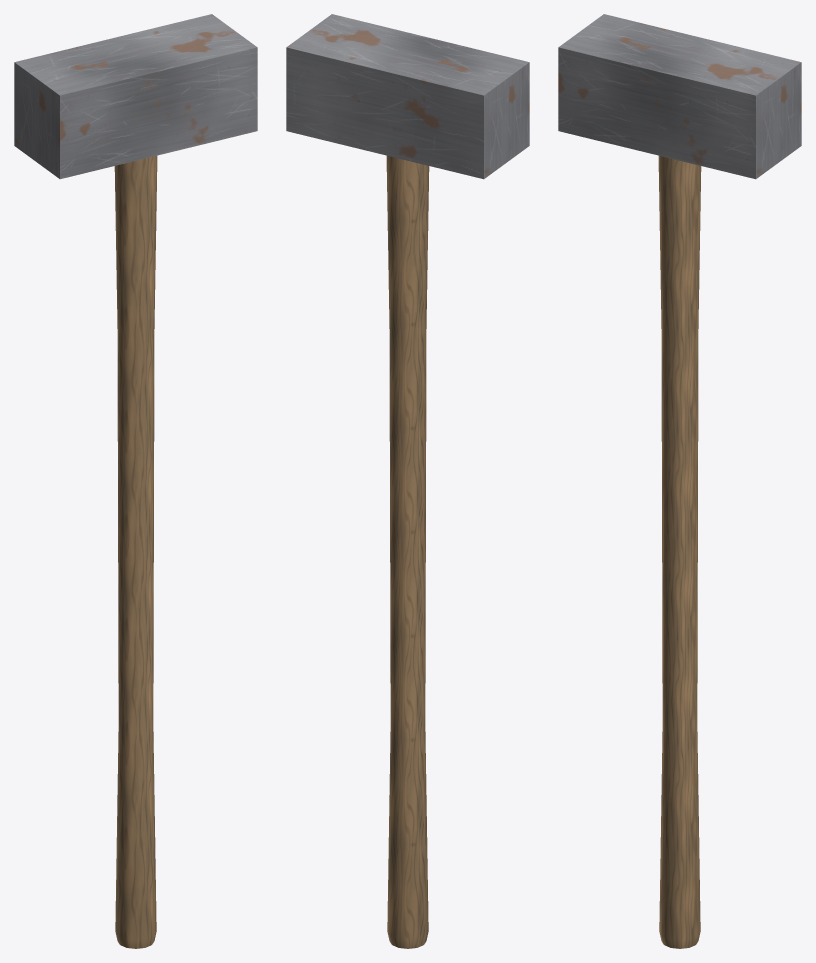
The model's file is sledgehammer.glb.
The picture shows the model from 3 angles, left to right: view 1: azimuth 30°, elevation 25°; view 2: azimuth 150°, elevation 25°; view 3: azimuth 330°, elevation 25°; orthographic projection.
Parts seen in each view (by area): view 1: OUT; view 2: OUT; view 3: OUT.
Boxes of the visible parts, bbox=[...] form: OUT: bbox=[14, 14, 257, 948]; OUT: bbox=[286, 14, 529, 948]; OUT: bbox=[558, 14, 801, 948].
Size of the model in its own units: 0.21 by 0.9 by 0.084.
2 materials, 2 textured.
